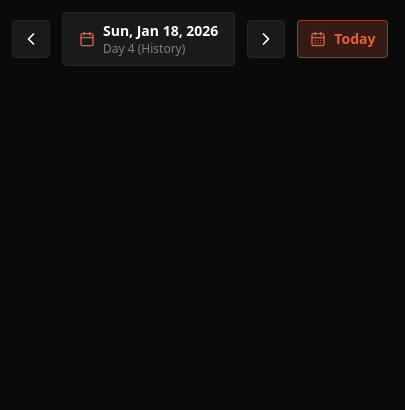
Test case: TimelineDateNav › calendar picker › opens calendar when date button clicked
Find and click the date picker button (has calendar icon)
Click the button "Sun, Jan 18, 2026 Day 4 (History)".
click(149, 39)  # box x1=62 y1=12 x2=235 y2=66
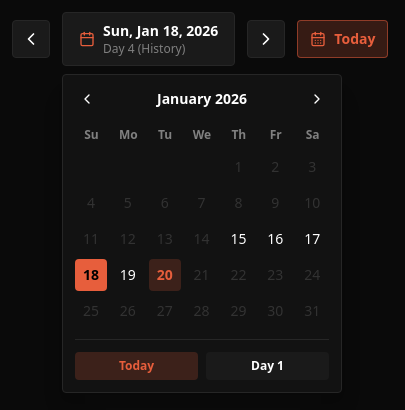
Expected: the text "January 2026" is shown, x1=157 y1=89 x2=247 y2=109
